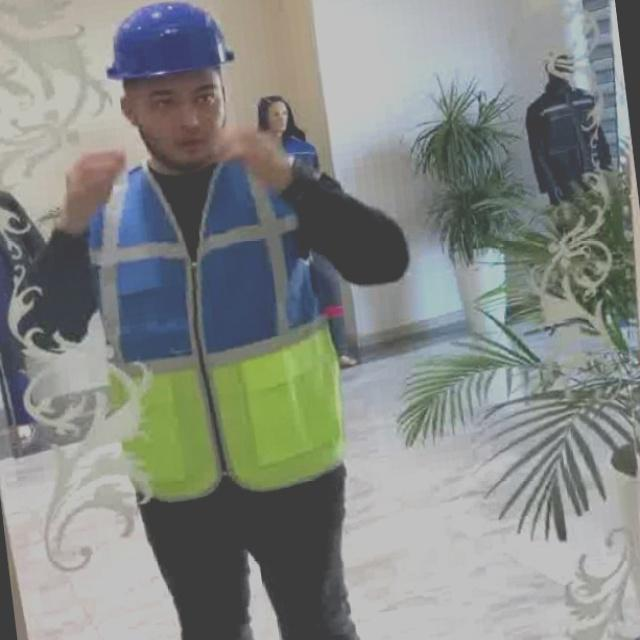helmet: (95, 0, 252, 80)
safety_vest: (76, 150, 367, 489)
